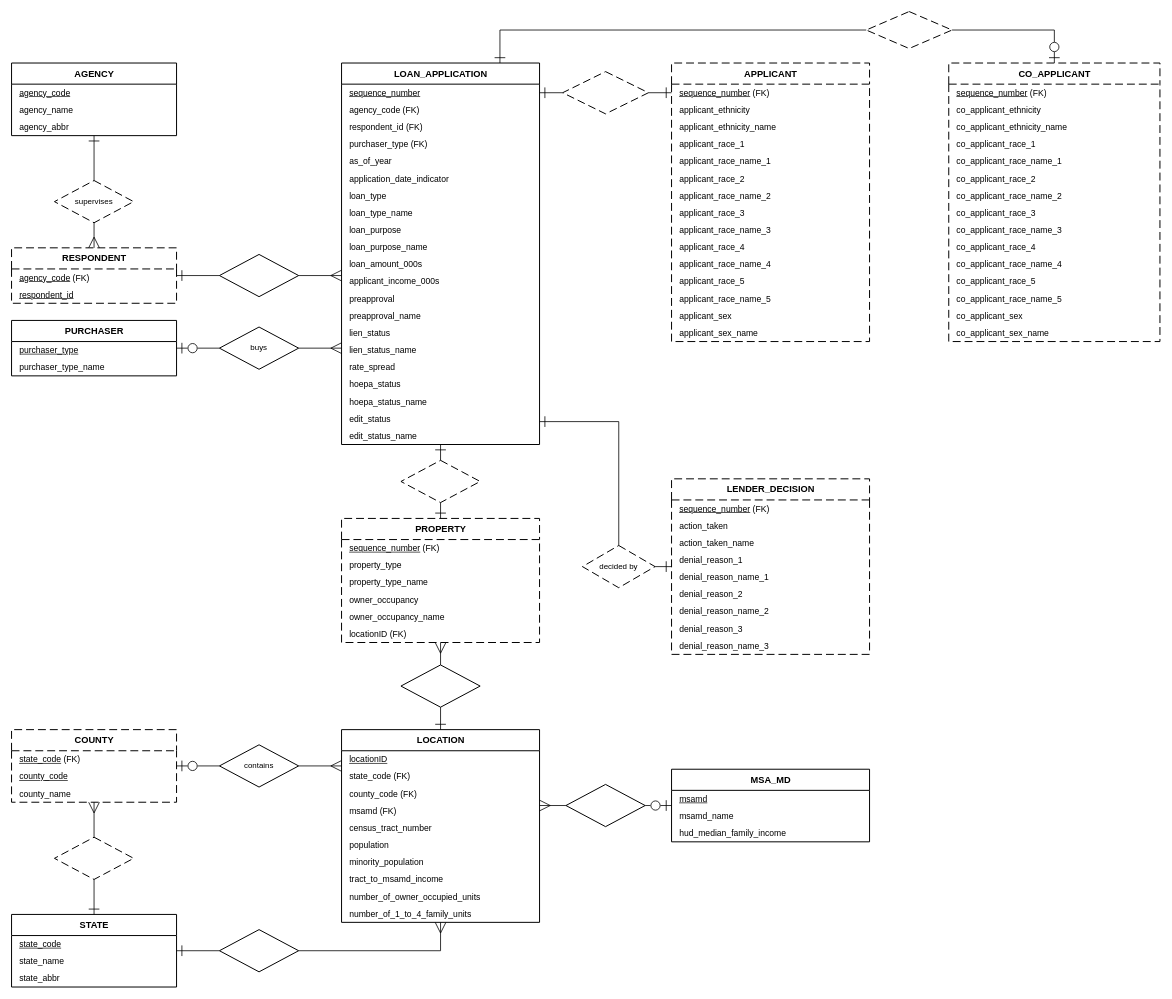
The diagram is 1172 pixels wide and 999 high, and some of its shapes have lost their labels. The centre of each missing label's shape, as x and y in pixels:
"co-signed by" goes at (908,30).
"files" goes at (259,275).
"has" goes at (94,858).
"in state" goes at (259,950).
"includes" goes at (605,805).
"located in" goes at (440,685).
"secured by" goes at (440,481).
"submitted by" goes at (605,92).
